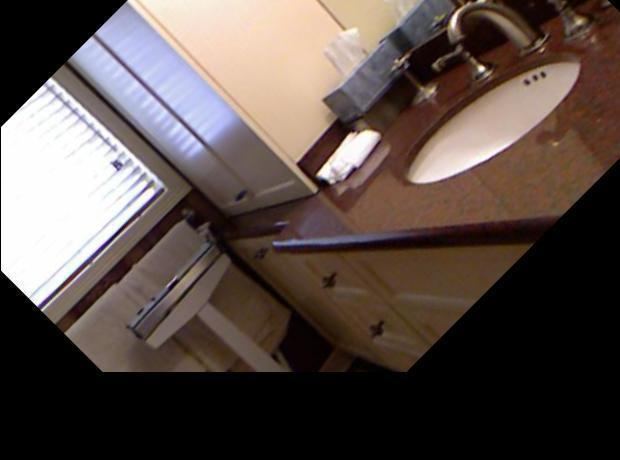Lavamanos: (334, 0, 620, 238)
Otro Obstaculo: (116, 223, 381, 460)
